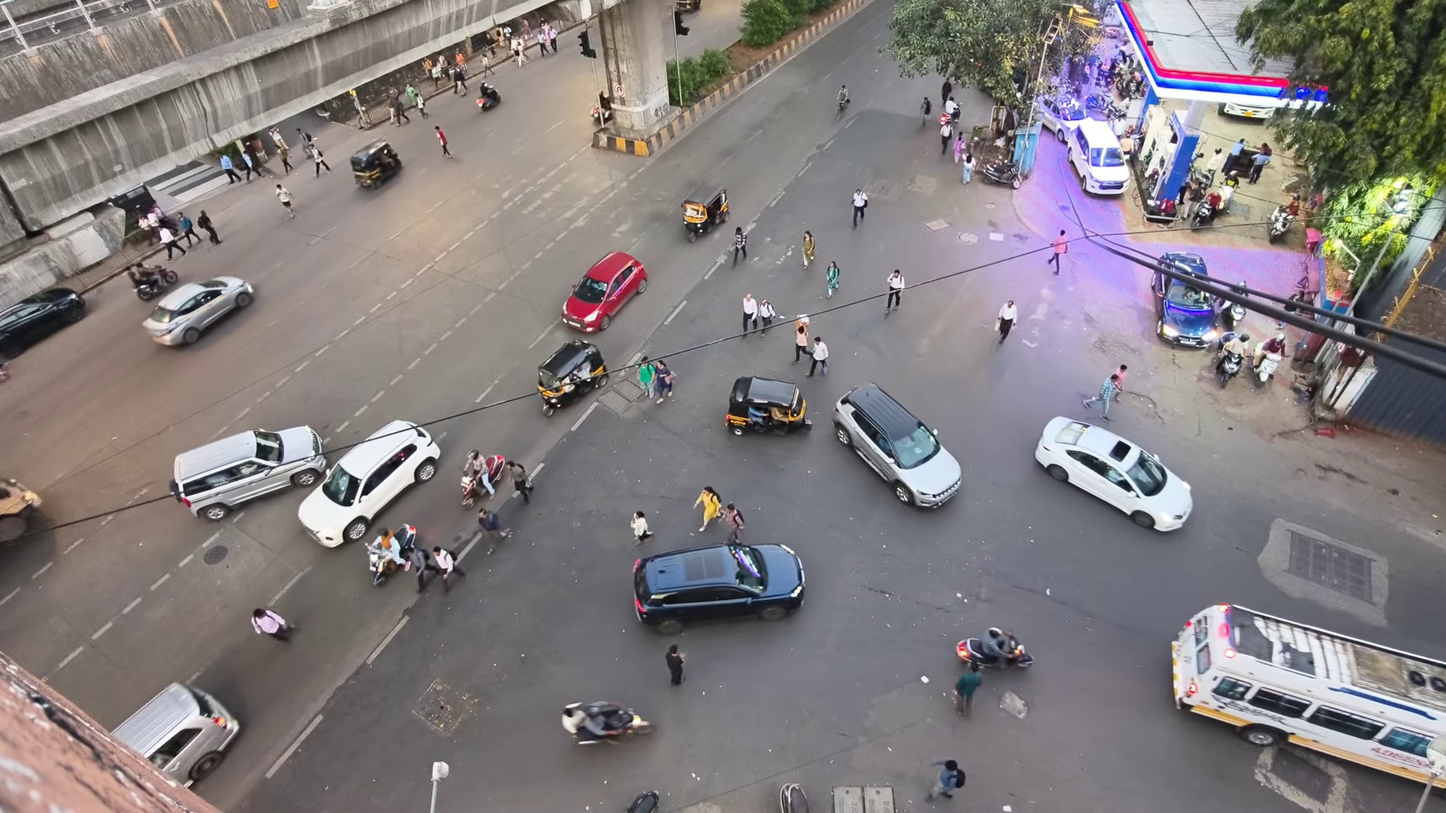driving: (1171, 603, 1445, 786), (298, 420, 440, 547), (1036, 417, 1192, 531), (833, 383, 961, 507), (633, 544, 804, 634), (142, 276, 253, 346), (561, 252, 647, 332), (0, 288, 85, 359), (538, 340, 608, 416), (1152, 271, 1221, 347), (0, 478, 41, 544)
walking: (1083, 374, 1118, 419), (477, 508, 511, 554), (926, 760, 964, 801), (432, 546, 465, 592), (407, 546, 439, 592), (954, 662, 982, 714), (251, 608, 291, 641), (694, 486, 721, 531), (507, 461, 532, 503), (157, 225, 187, 260), (1247, 143, 1272, 183), (996, 300, 1017, 343), (1047, 230, 1067, 275), (654, 361, 674, 403), (723, 503, 744, 543), (886, 269, 905, 313), (197, 210, 221, 244), (808, 336, 828, 376), (665, 644, 684, 685), (1222, 138, 1244, 173), (637, 357, 656, 397), (630, 510, 651, 544), (179, 212, 200, 245), (793, 320, 809, 362), (311, 144, 331, 177), (274, 184, 293, 218), (742, 293, 757, 336), (758, 299, 776, 334), (241, 150, 261, 181), (220, 155, 240, 184), (939, 113, 953, 154), (732, 227, 746, 265), (1113, 364, 1127, 402), (853, 189, 867, 227), (434, 126, 451, 157), (825, 261, 839, 297), (391, 97, 409, 125), (277, 141, 292, 174), (960, 151, 975, 184), (802, 230, 815, 267), (944, 96, 961, 123), (953, 132, 966, 164), (404, 82, 420, 105), (480, 53, 493, 78), (416, 94, 429, 118), (941, 79, 953, 105), (548, 26, 557, 53)
